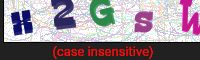2: (47, 1, 82, 35)
G: (88, 1, 120, 32)
W: (177, 1, 199, 38)
X: (8, 7, 37, 40)
s: (130, 7, 159, 36)
